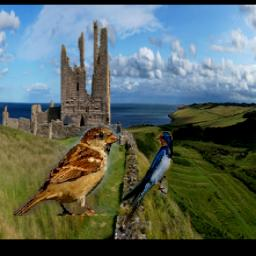Sparrow: (15, 126, 120, 216)
Swallow: (122, 131, 173, 225)
